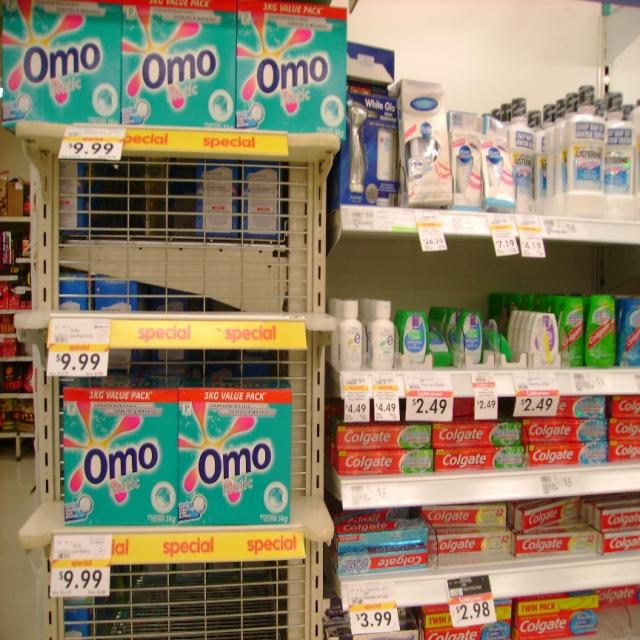q49: (181, 368, 297, 534), (67, 379, 179, 534), (240, 4, 348, 141), (0, 0, 120, 119), (125, 2, 235, 123)
